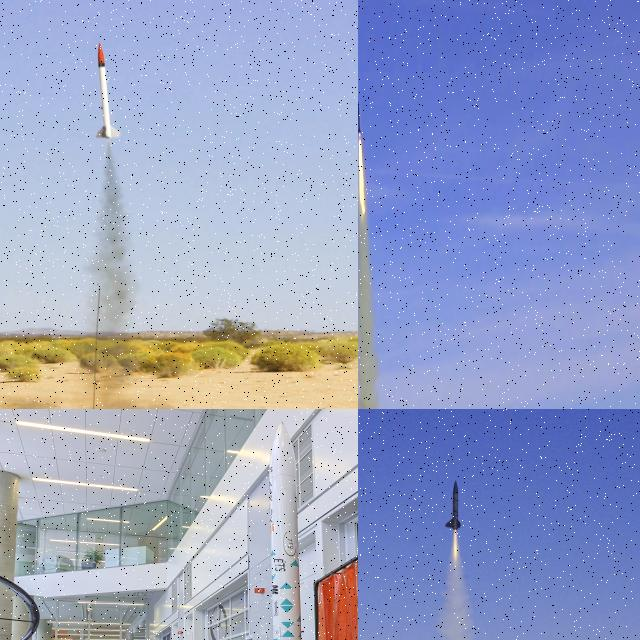Rocket: (269, 420, 302, 640), (95, 42, 122, 140), (445, 480, 463, 531), (358, 100, 361, 137)
